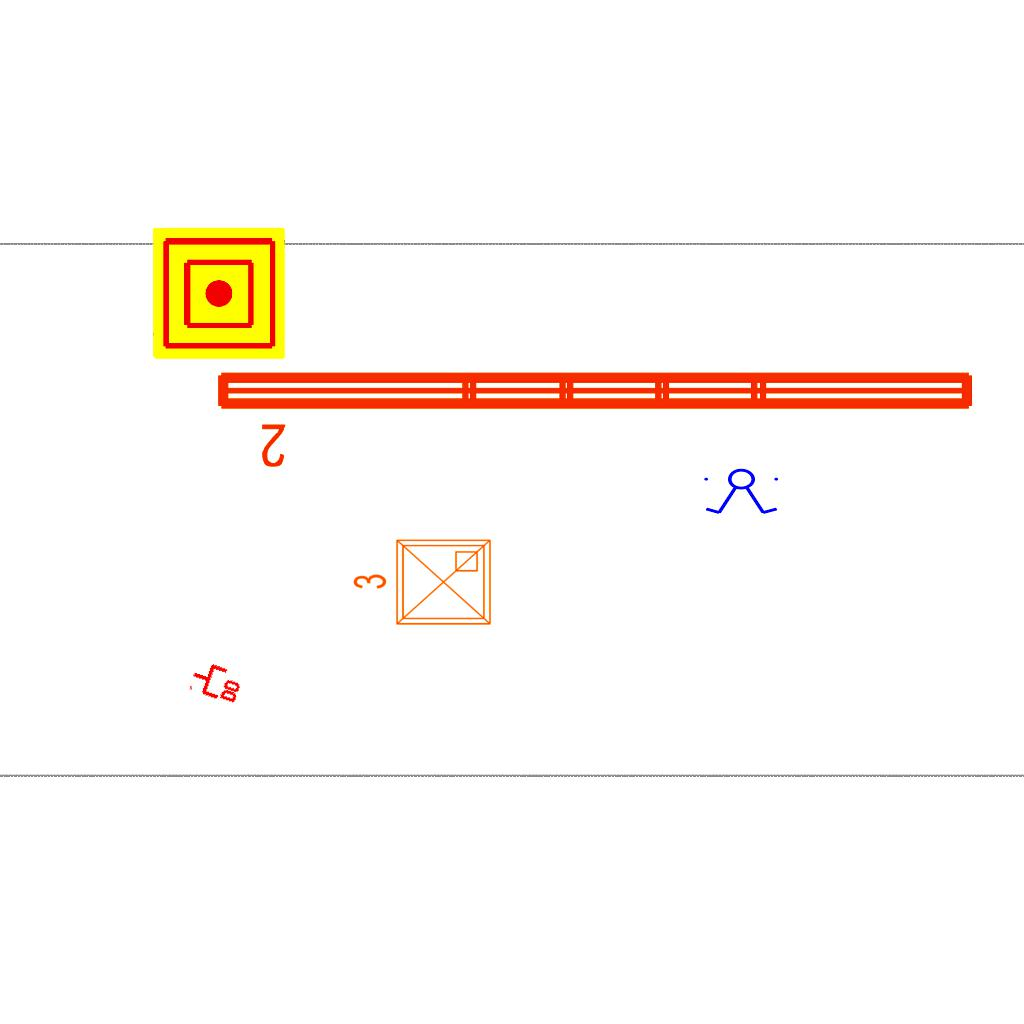Ambulanz_Pendelleuchte_LED: (209, 360, 983, 472)
Datenanschluss_zweifach: (187, 657, 247, 706)
Einbaudownlights_LED_Konferenzraeume: (348, 532, 498, 636)
NAM-Nichtautomatischer_Melder: (153, 227, 285, 359)
Serienschalter: (700, 468, 784, 516)
